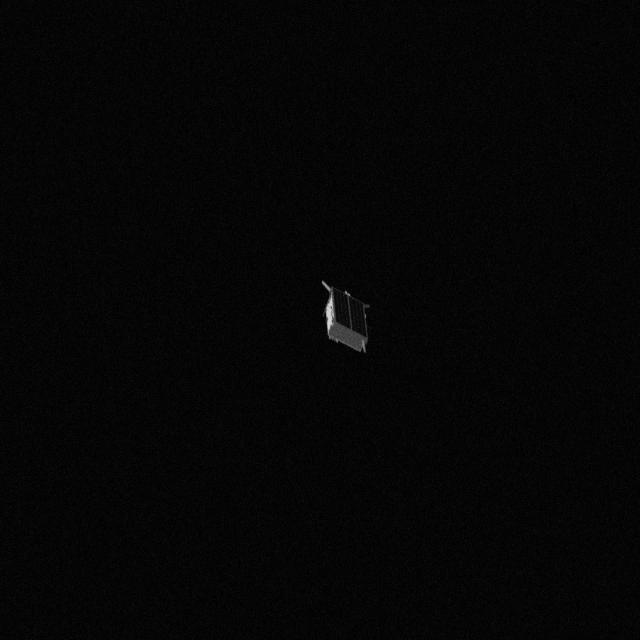medium_debris: (312, 278, 388, 356)
